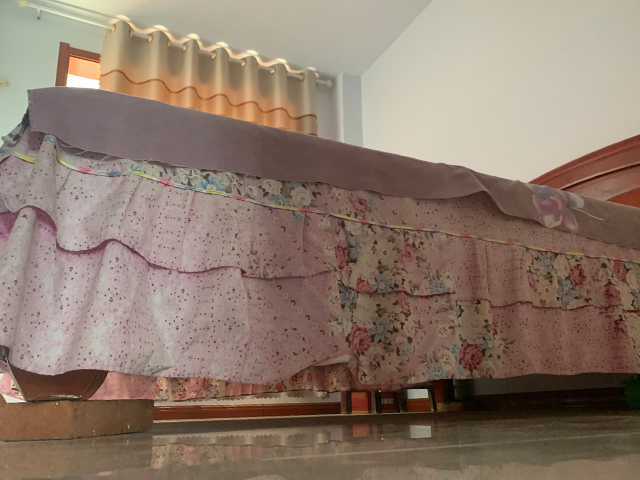bed: (1, 85, 640, 414)
